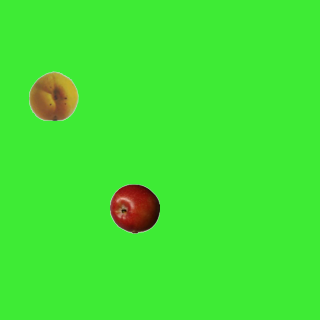Apple Braeburn: (109, 183, 159, 233)
Peach 2: (28, 70, 78, 120)
